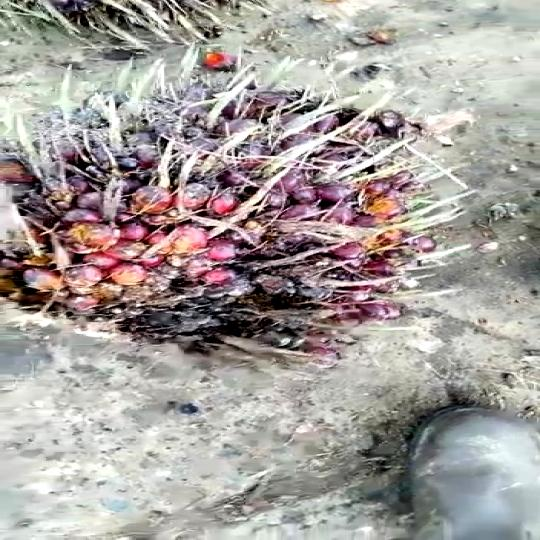masak: (0, 78, 450, 368)
